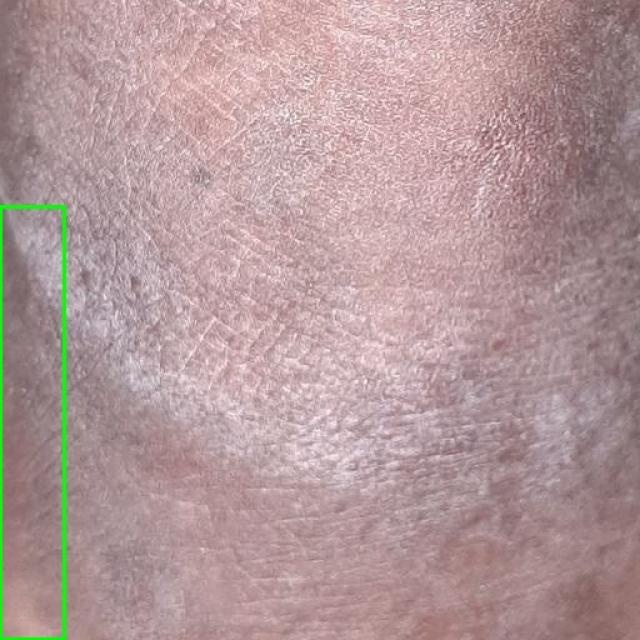Contact Dermatitis: (0, 206, 64, 639)
